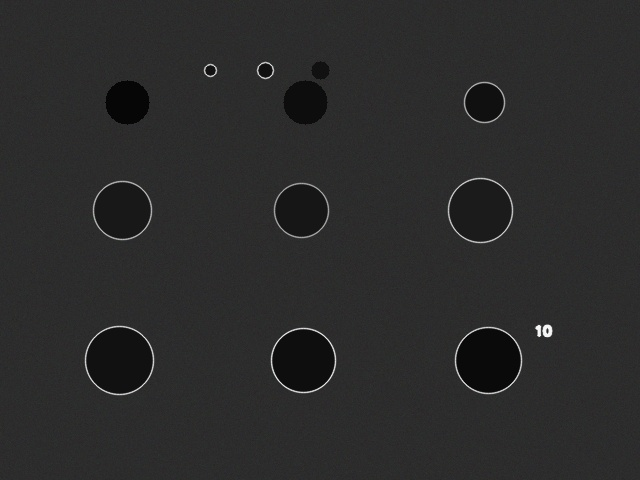hole: (85, 326, 153, 394), (455, 327, 521, 393), (448, 178, 512, 242), (271, 328, 335, 392), (93, 181, 151, 239), (274, 183, 328, 237), (105, 80, 149, 124), (283, 80, 327, 124), (464, 82, 504, 122), (311, 61, 329, 79), (257, 62, 273, 78), (204, 64, 216, 76)
